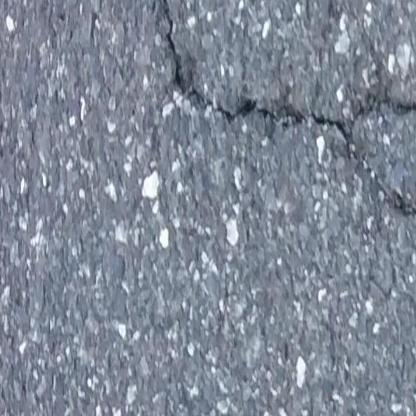Cracks: (139, 0, 416, 221)
